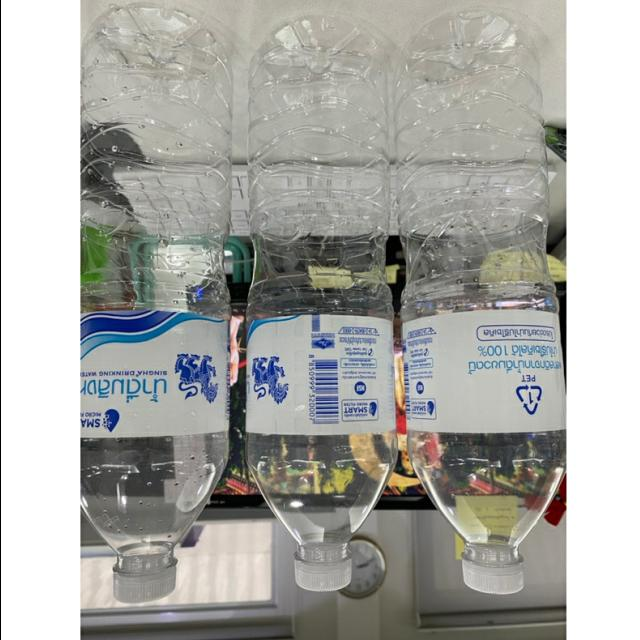plastik: (392, 9, 564, 594), (81, 5, 231, 603), (245, 17, 395, 591)
